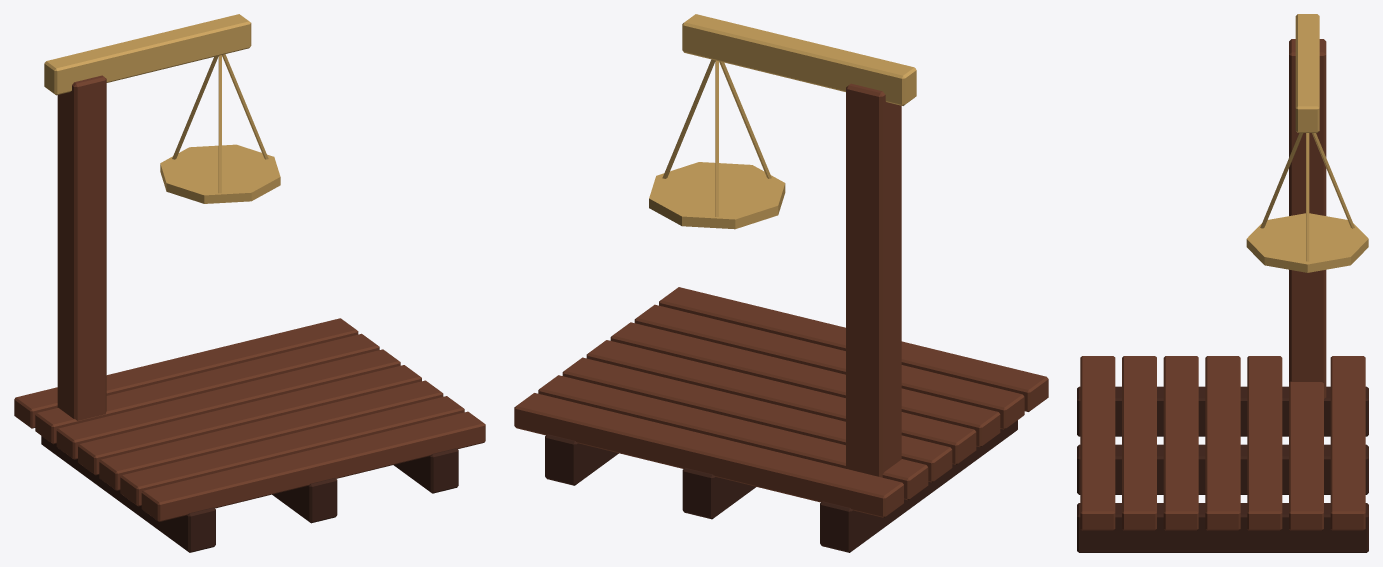
The model's file is platform_scale.glb.
3 views of the same model, side by side, from view 1: azimuth 30°, elevation 25°; view 2: azimuth 150°, elevation 25°; view 3: azimuth 270°, elevation 25° (orthographic). The views are drawn at different scales.
Visible parts, largest first — view 1: Deck, Column, Balance, Pan, Deck_Runner; view 2: Deck, Column, Balance, Pan, Deck_Runner, Pan_hanger, Pan_hanger_002; view 3: Deck, Column, Pan, Balance, Deck_Runner, Pan_hanger, Pan_hanger_002, Pan_hanger_001.
Boxes of the visible parts, box(x1,y1,x2,y2) form: Deck: box(14, 318, 485, 523); Column: box(57, 75, 106, 420); Balance: box(44, 14, 251, 95); Pan: box(160, 144, 280, 203); Deck_Runner: box(41, 436, 215, 552); Deck: box(514, 287, 1048, 519); Column: box(846, 83, 901, 477); Balance: box(682, 14, 916, 105); Pan: box(649, 162, 785, 229); Deck_Runner: box(820, 420, 1017, 552); Pan_hanger: box(662, 59, 715, 178); Pan_hanger_002: box(719, 61, 771, 178); Deck: box(1077, 356, 1368, 552); Column: box(1289, 39, 1326, 398); Pan: box(1246, 213, 1368, 272); Balance: box(1295, 14, 1319, 132); Deck_Runner: box(1077, 386, 1368, 436); Pan_hanger: box(1306, 133, 1309, 261); Pan_hanger_002: box(1260, 133, 1303, 228); Pan_hanger_001: box(1312, 133, 1354, 228).
Size of the model in its own units: 1.4 by 1.67 by 1.1.
